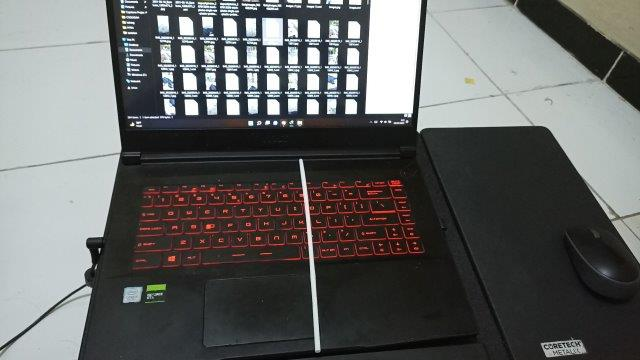sedotan: (299, 159, 321, 352)
